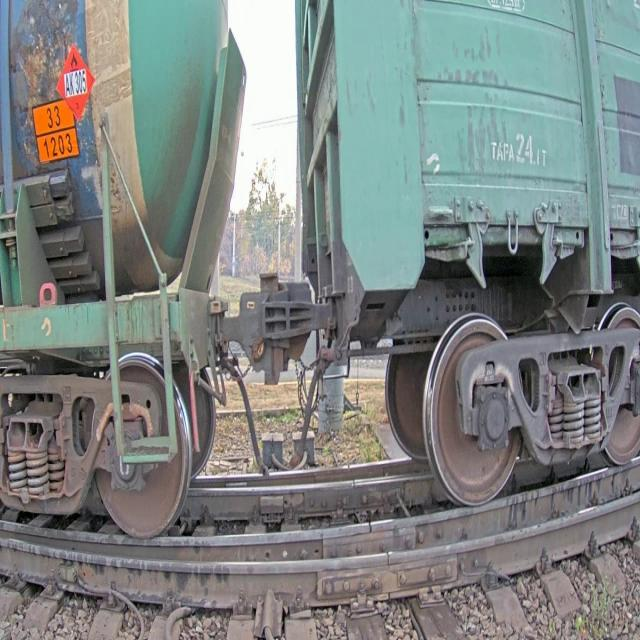gondola: (285, 0, 640, 531)
tank: (0, 0, 256, 544)
